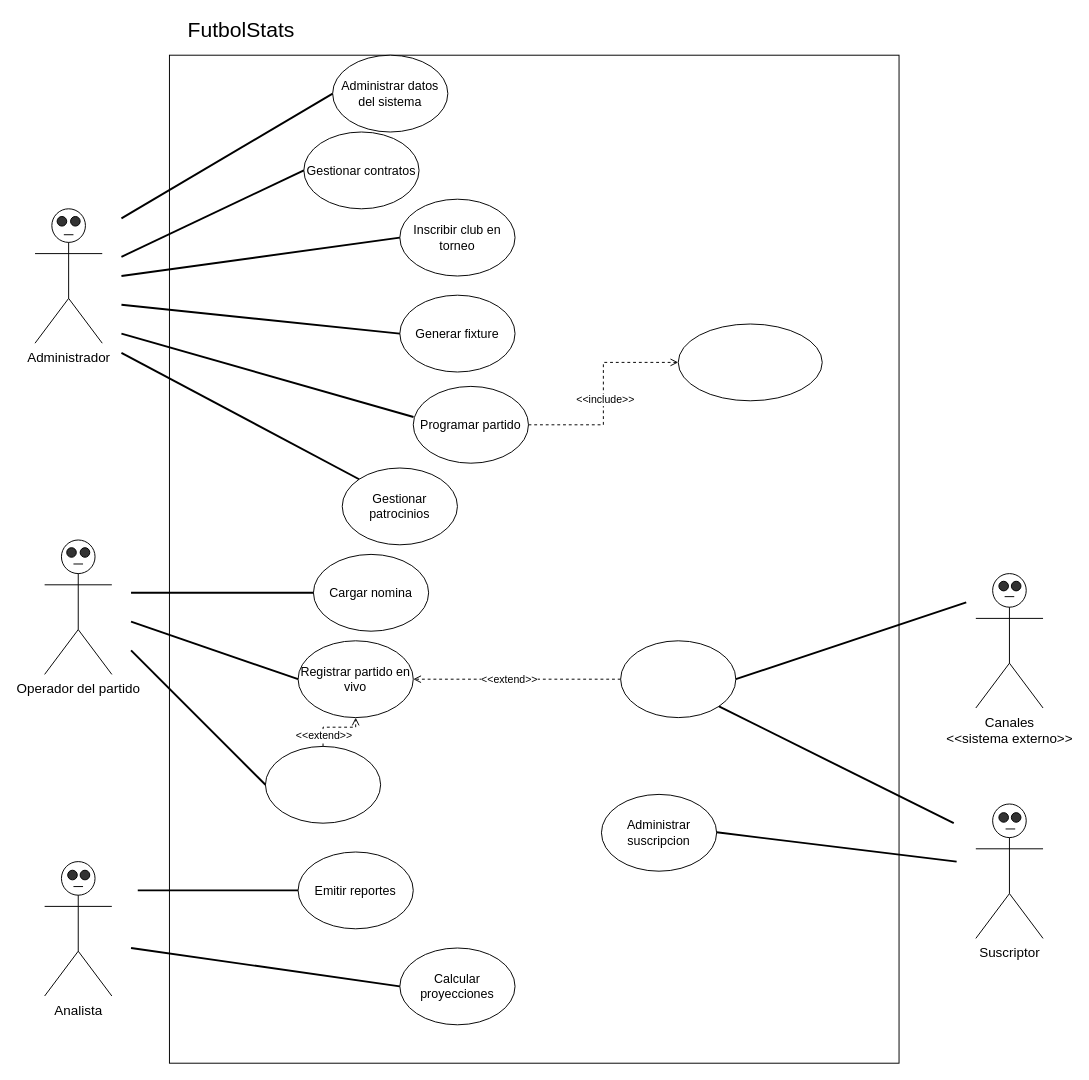
This 1089x1080 diagram has some shape labels left out. Each missing label, with the centre of its shape:
"Anular evento" belongs at point 322,784.
"Notificar hecho del partido" belongs at point 678,679.
"Verificar disponibilidad (estadio, arbitros,clubes)" belongs at point 749,362.
